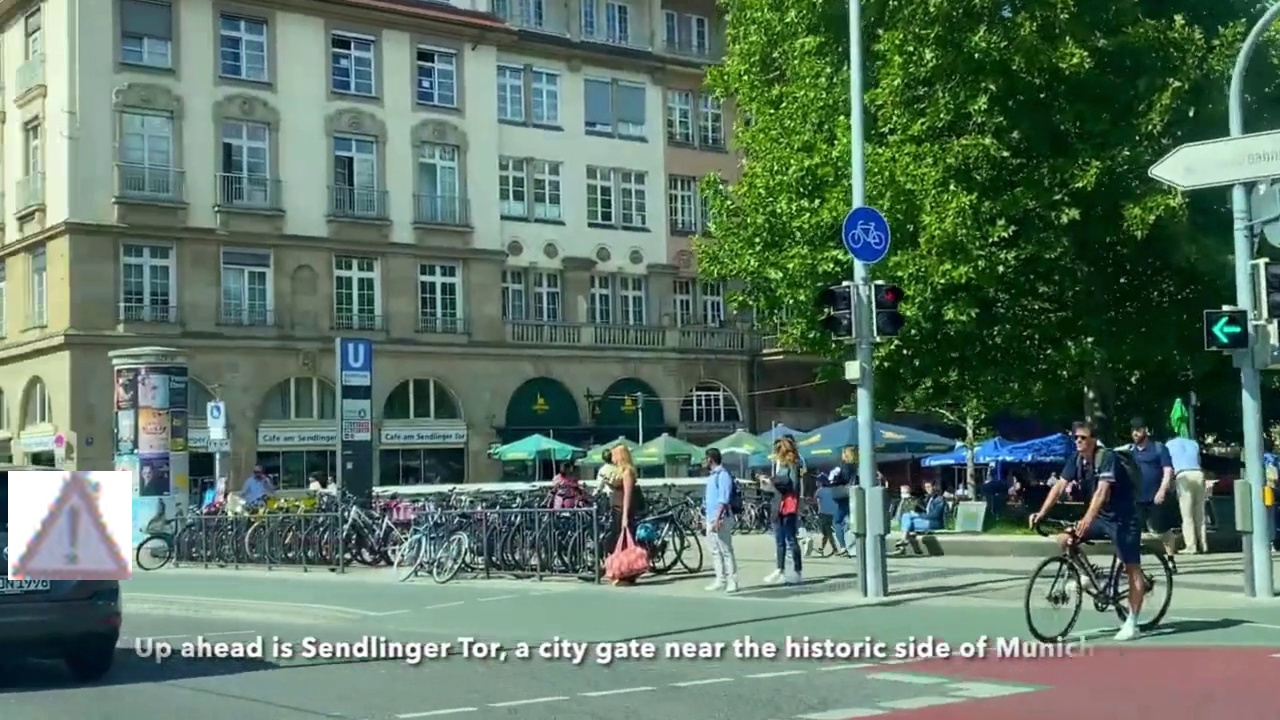Caution: (8, 471, 132, 580)
